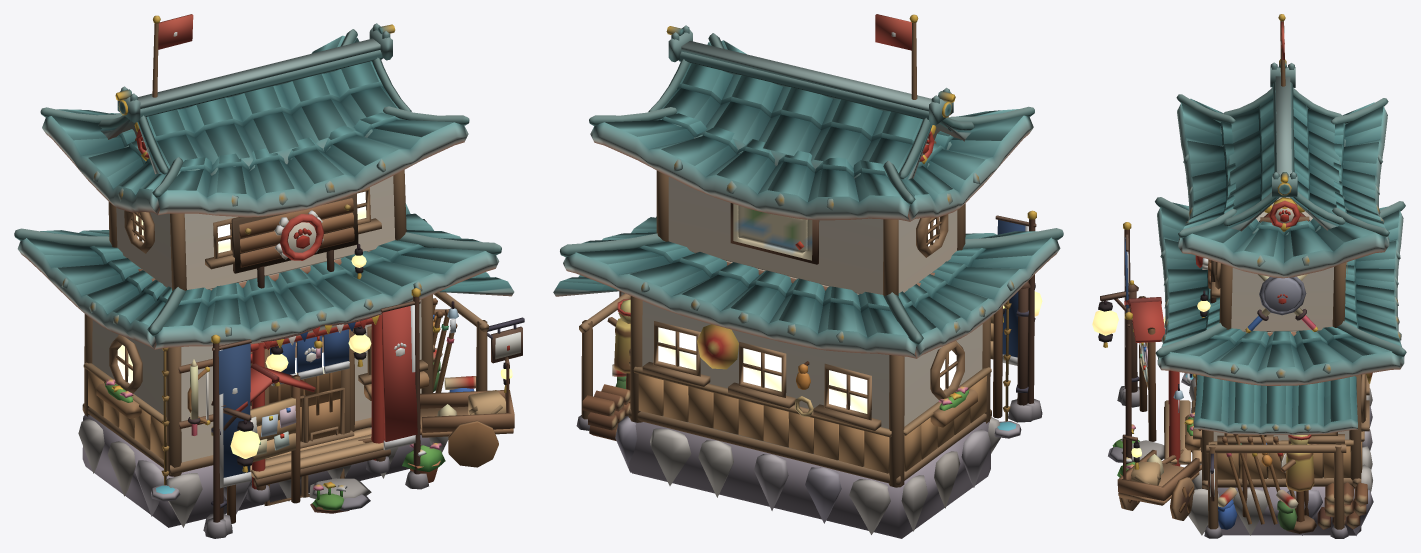
Rendered from guild-2.glb.
3 views of the same model, side by side, from view 1: azimuth 30°, elevation 25°; view 2: azimuth 150°, elevation 25°; view 3: azimuth 270°, elevation 25° (orthographic). The views are drawn at different scales.
Parts seen in each view (by area): view 1: guild, window_glow; view 2: guild, window_glow; view 3: guild, window_glow.
Boxes of the visible parts, x1,y1,x2,y2 form: guild: [14, 14, 524, 538]; window_glow: [117, 191, 512, 458]; guild: [553, 14, 1063, 538]; window_glow: [658, 217, 1042, 413]; guild: [1098, 14, 1406, 538]; window_glow: [1092, 300, 1210, 457].
Bounding box in the file's own units: 4.86 × 5.45 × 3.69.
